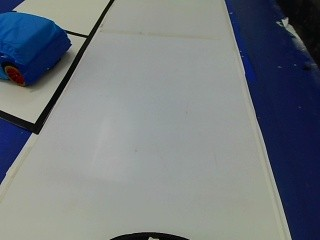car: (0, 8, 72, 88)
